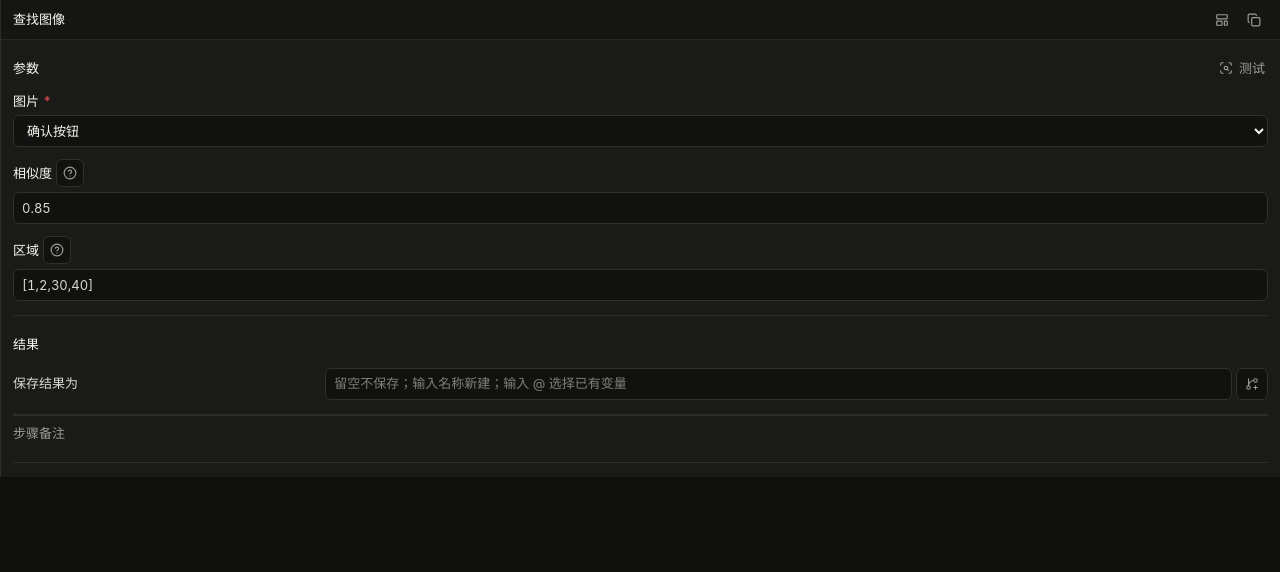
Test: ProgramStatementInspector › uses direct image selection and previews the current frame with runtime parameters
The image size is (1280, 572).
Expected: the dropdown named "图片" shows "确认按钮", [13,115,1268,147]
Expected: the heading "查找图像" is shown, [13,10,65,29]
Click the button "测试". click: click(1242, 68)
box: [1209,54,1275,82]
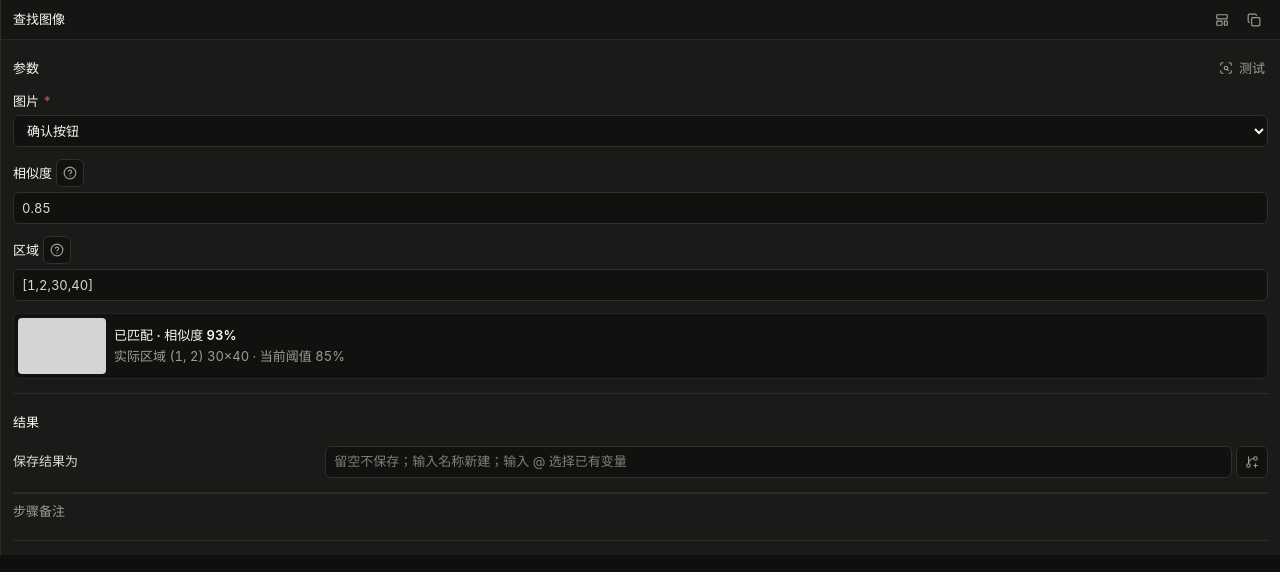
Expected: the element showing "已匹配 · 相似度 93% 实际区域 (1, 2) 30×40 · 当前阈值 85%" is shown, [13,313,1268,379]
Click the button "测试". click: click(1242, 68)
box: [1209,54,1275,82]
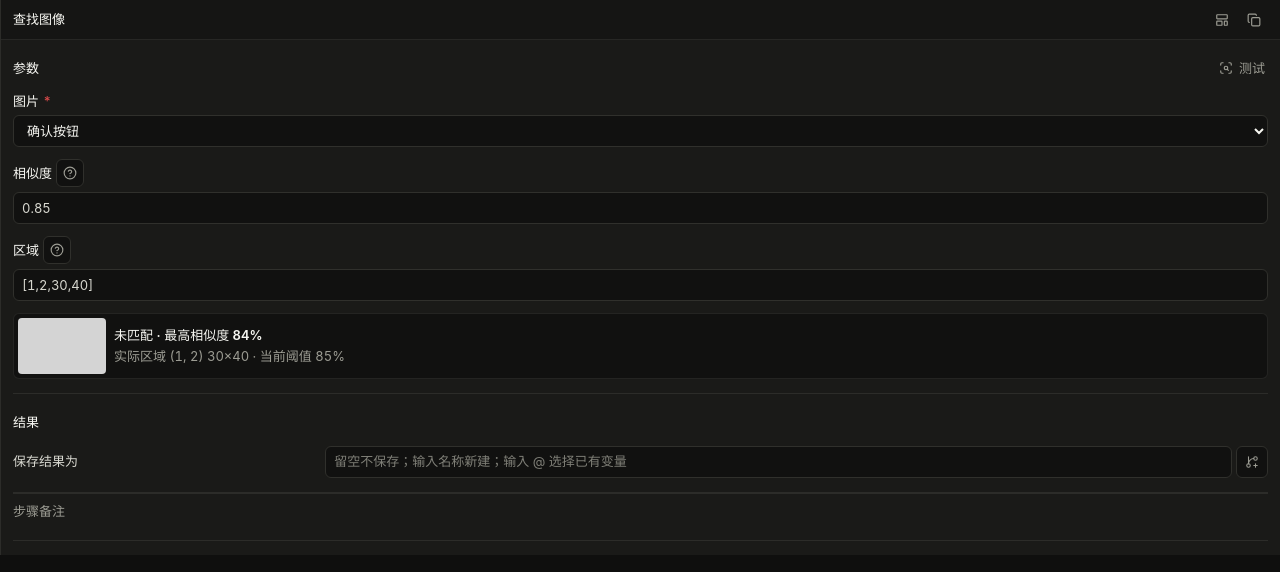
Expected: the element showing "未匹配 · 最高相似度 84% 实际区域 (1, 2) 30×40 · 当前阈值 85%" is shown, [13,313,1268,379]
Click the button "测试". click: click(1242, 68)
box: [1209,54,1275,82]
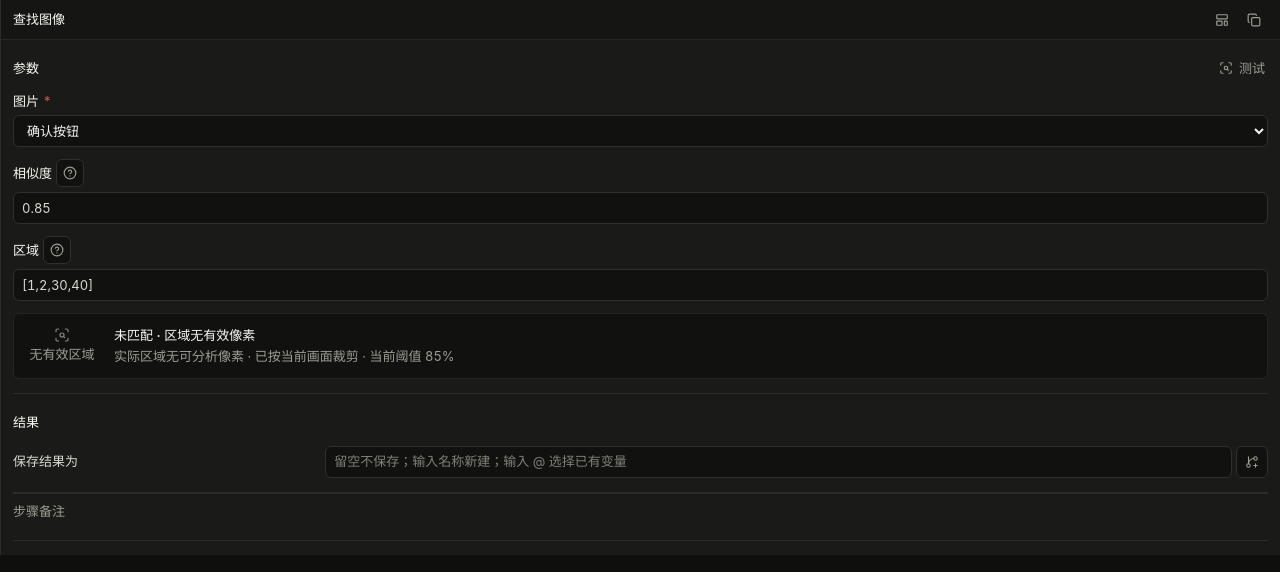
Expected: the picture "无有效区域" is shown, [30,327,94,362]
Expected: the element showing "无有效区域 未匹配 · 区域无有效像素 实际区域无可分析像素 · 已按当前画面裁剪 · 当前阈值 85%" is shown, [13,313,1268,379]
